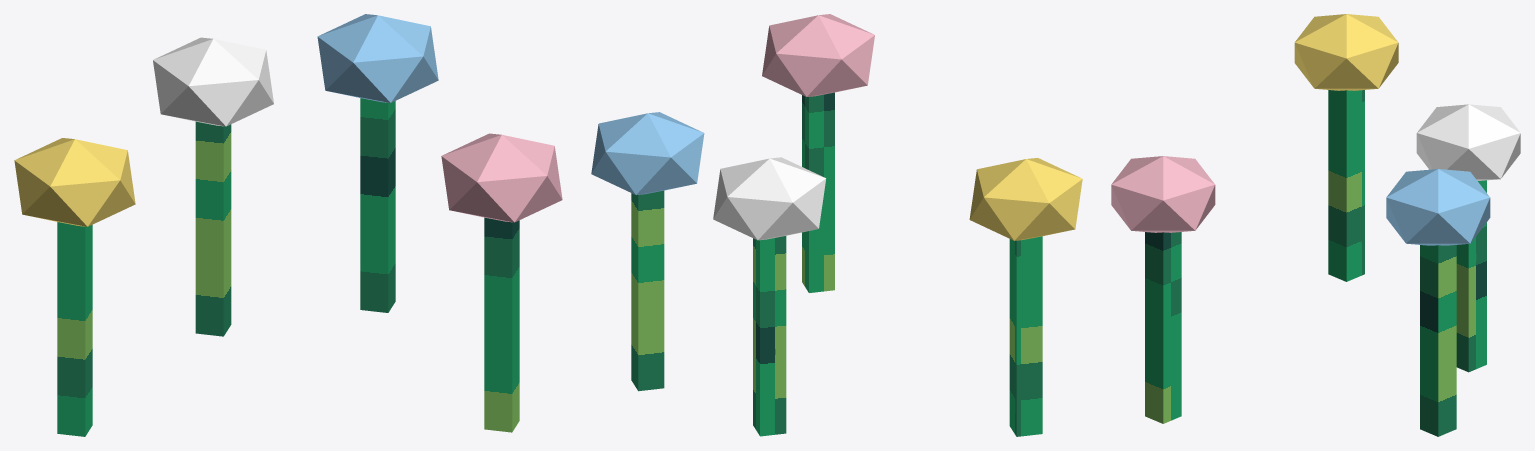
File: r01_flores.glb
3 renders of one model, left to right at view 1: azimuth 30°, elevation 25°; view 2: azimuth 150°, elevation 25°; view 3: azimuth 270°, elevation 25°, orthographic. The views are drawn at different scales.
Visible parts, largest first — view 1: r01_flores; view 2: r01_flores; view 3: r01_flores.
Part boxes in pixels (x1=…): r01_flores: x1=14, y1=14, x2=562, y2=436; r01_flores: x1=591, y1=14, x2=1082, y2=436; r01_flores: x1=1111, y1=14, x2=1520, y2=436.
Size of the model in its own units: 0.7789 by 0.47 by 0.6701.
Materials: 5 (1 with a texture image).
